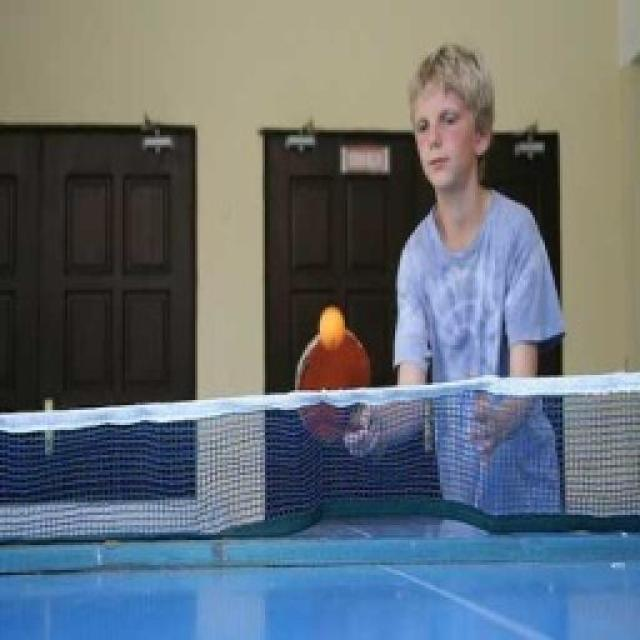oball: (317, 304, 345, 348)
